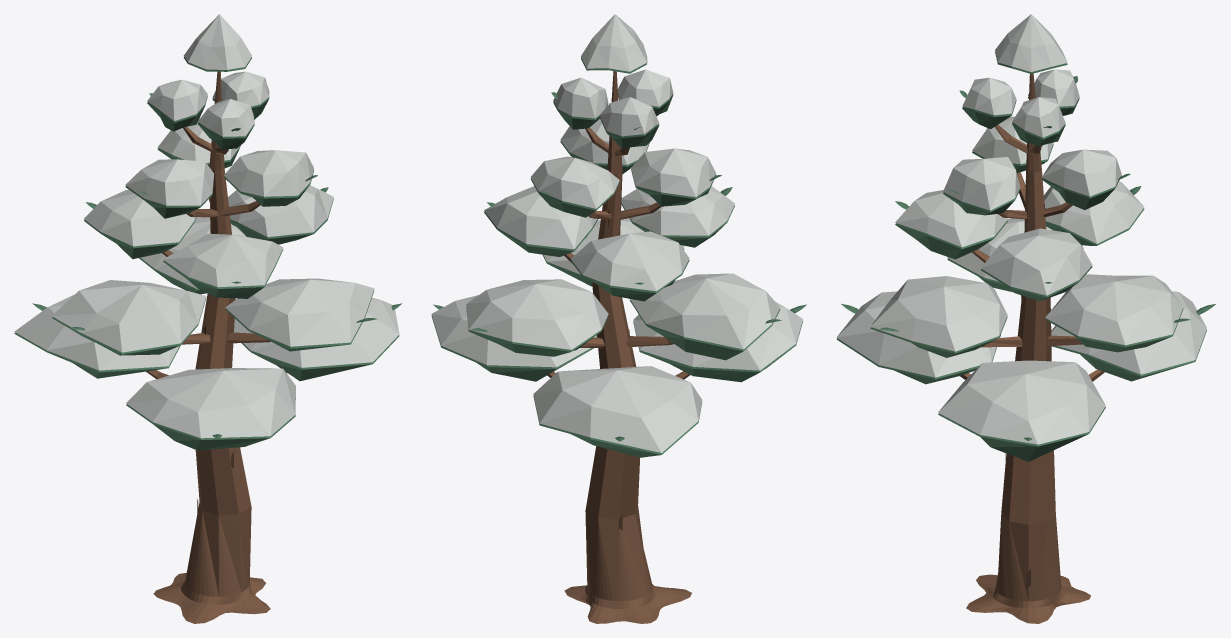
Rendered from pine_winter.glb.
3 views of the same model, side by side, from view 1: azimuth 30°, elevation 25°; view 2: azimuth 150°, elevation 25°; view 3: azimuth 270°, elevation 25° (orthographic).
Visible parts, largest first — view 1: snow, branches, leaves; view 2: snow, branches, leaves; view 3: snow, branches, leaves.
Part boxes in pixels (left/top/right/bottom): snow: left=14, top=14, right=399, bottom=438; branches: left=146, top=71, right=286, bottom=623; leaves: left=14, top=57, right=402, bottom=450; snow: left=431, top=14, right=802, bottom=452; branches: left=547, top=71, right=691, bottom=623; leaves: left=431, top=58, right=806, bottom=457; snow: left=836, top=14, right=1206, bottom=444; branches: left=960, top=73, right=1104, bottom=623; leaves: left=836, top=52, right=1215, bottom=461.
Size of the model in its own units: 3.2 by 5.22 by 3.06.
